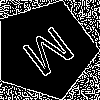M: (20, 24, 83, 86)
